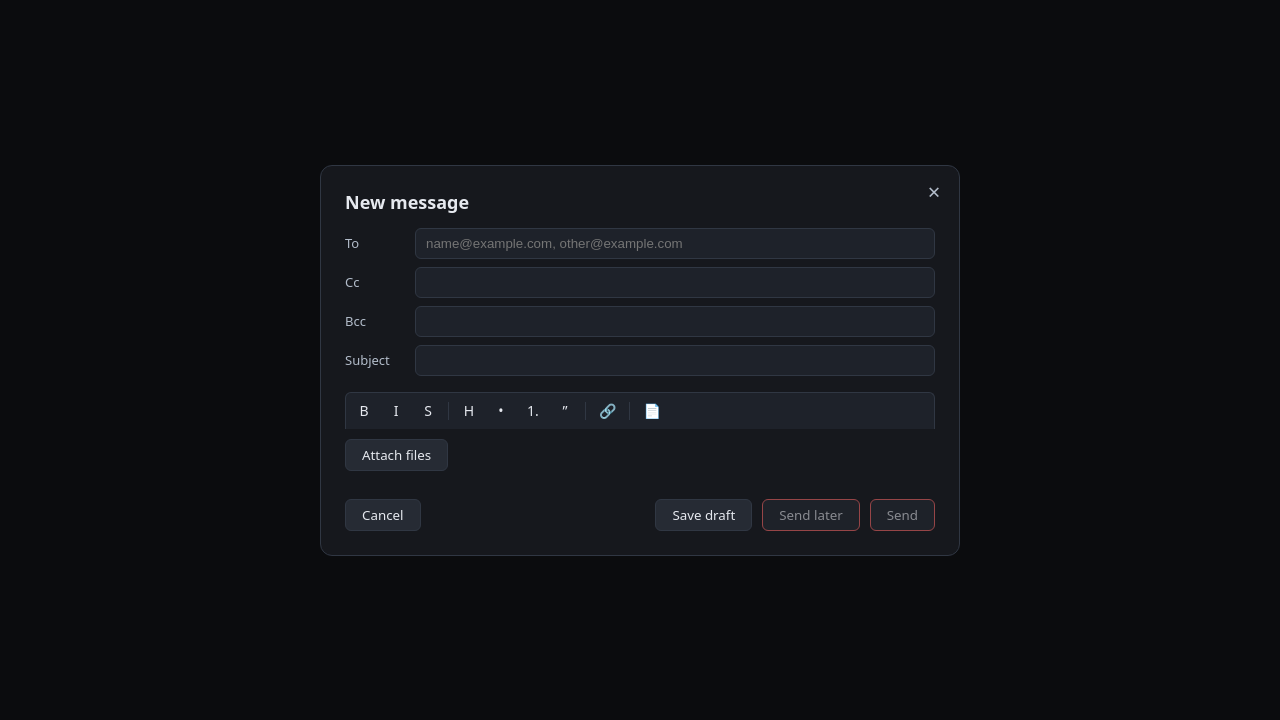
Test: the compose template picker › fills an empty subject and inserts the body
This screenshot has width=1280, height=720.
Click the button named "Insert template" at [652, 410], box [636, 396, 668, 424]
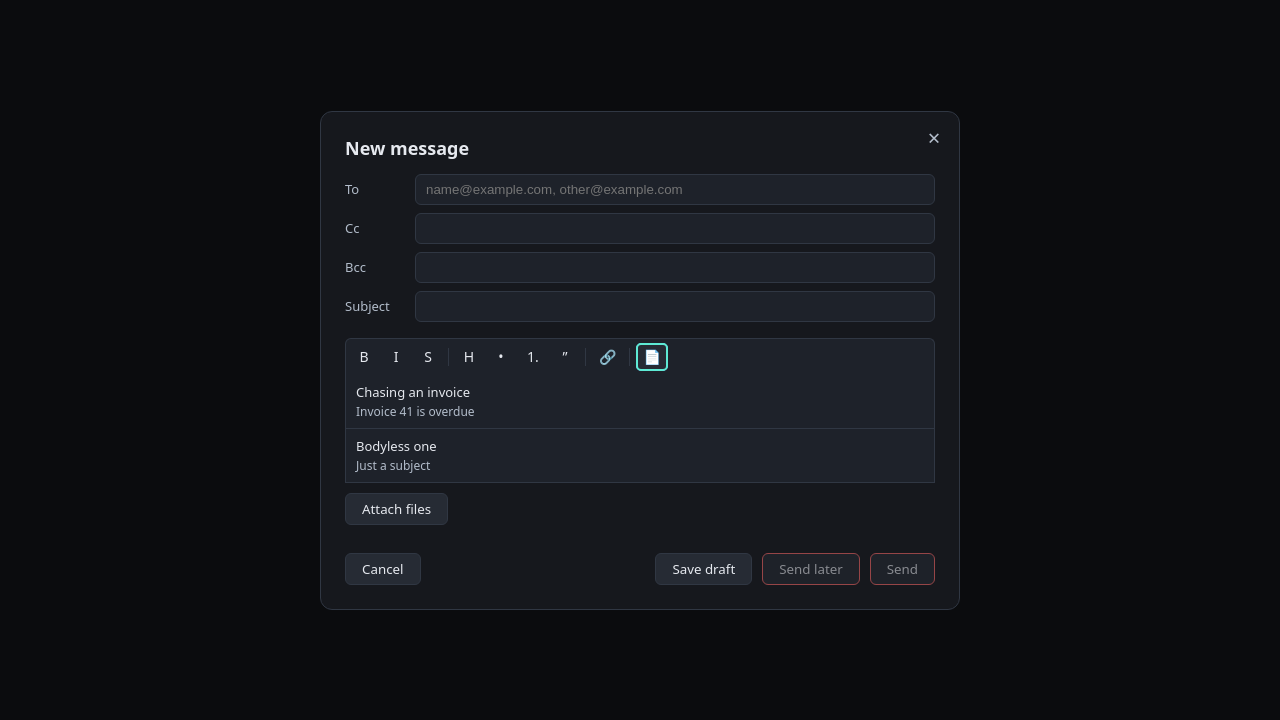
Check: the menu named "Message templates" is shown, box [345, 374, 935, 482]
Click the text "Chasing an invoice" at [413, 392], box [356, 382, 470, 400]
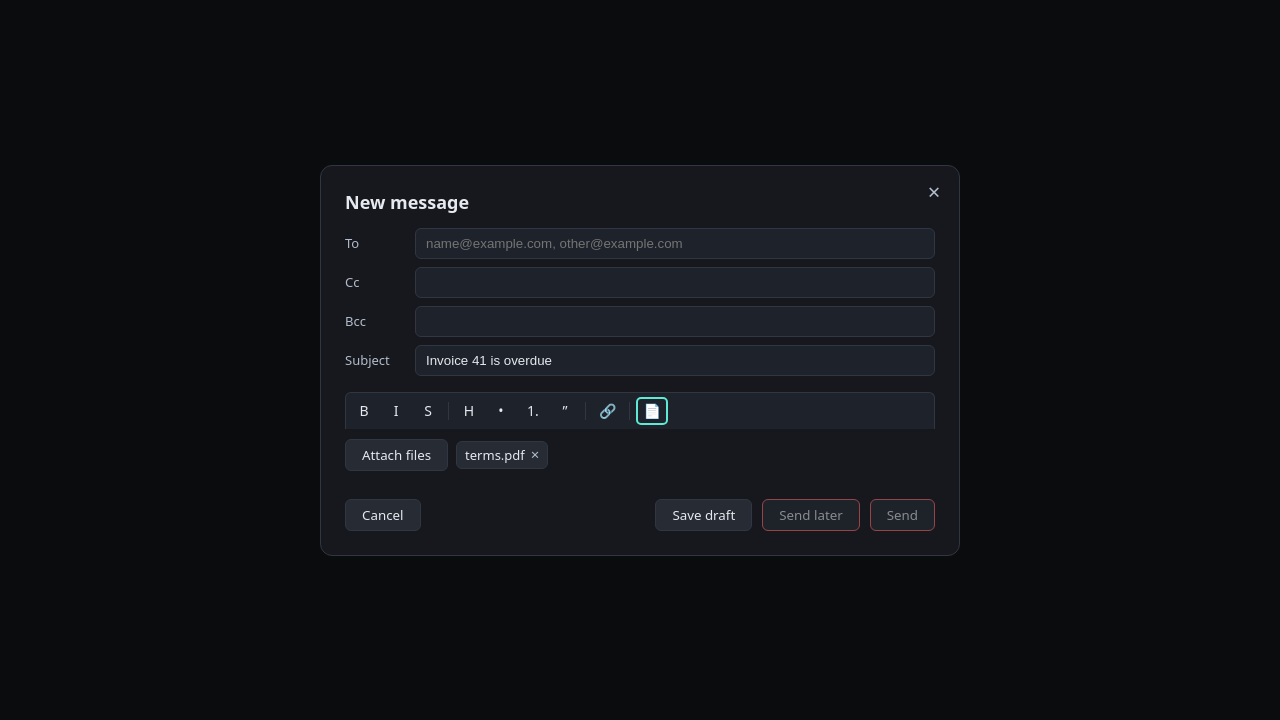
Check: the field showing "Invoice 41 is overdue" is shown, box [415, 344, 935, 376]
